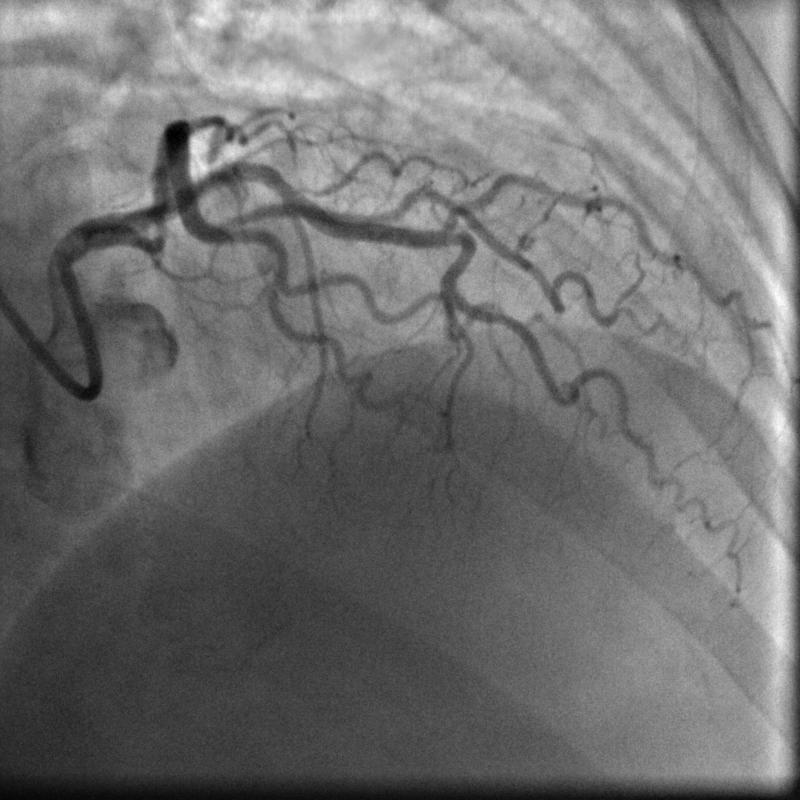Stenosis: (143, 200, 171, 252)
